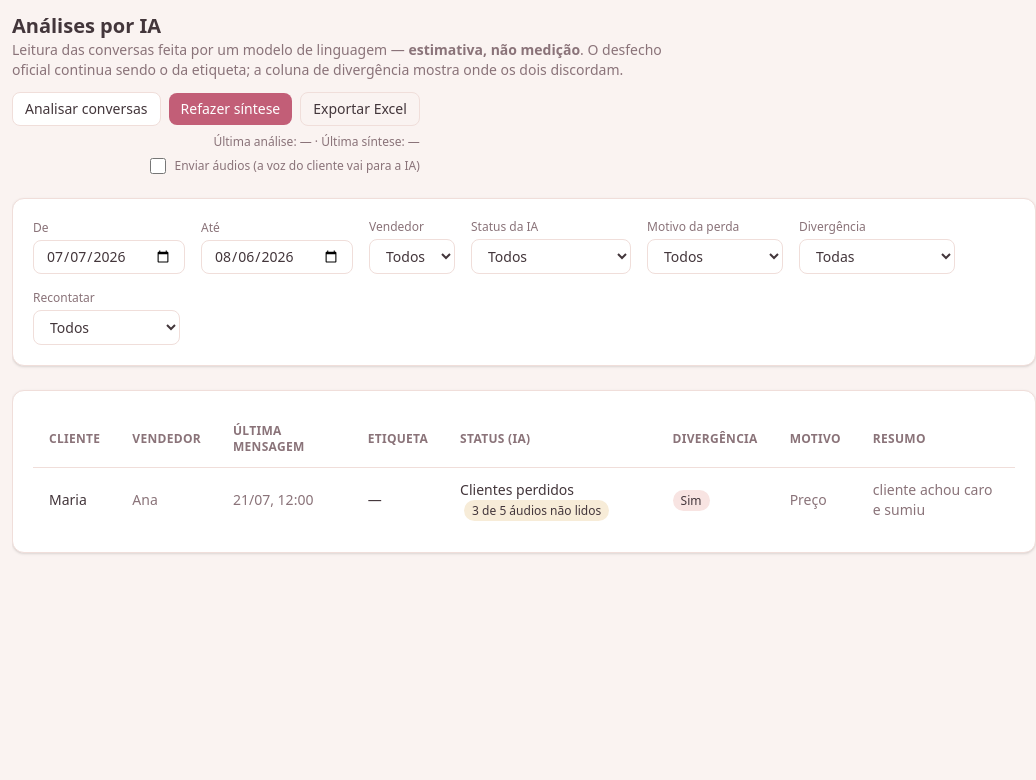
Test: AiAnalysisPage › avisa quando a IA não ouviu todos os áudios
The width and height of the screenshot is (1036, 780).
Note: O detalhe explica o que aconteceu, sem o usuário ter que adivinhar.
Click the text "Maria": (75, 500) left=33, top=468, right=116, bottom=532
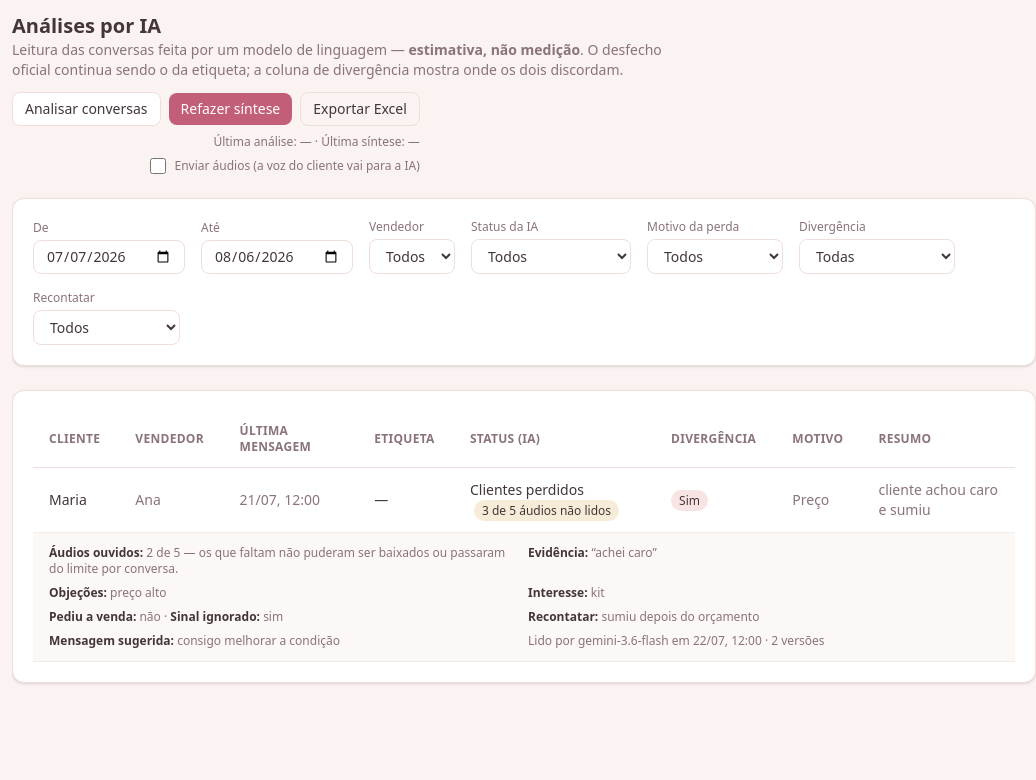
Expected: the text "Áudios ouvidos:" is shown, left=49, top=544, right=143, bottom=561
Expected: the text "não puderam ser baixados" is shown, left=49, top=544, right=505, bottom=577
